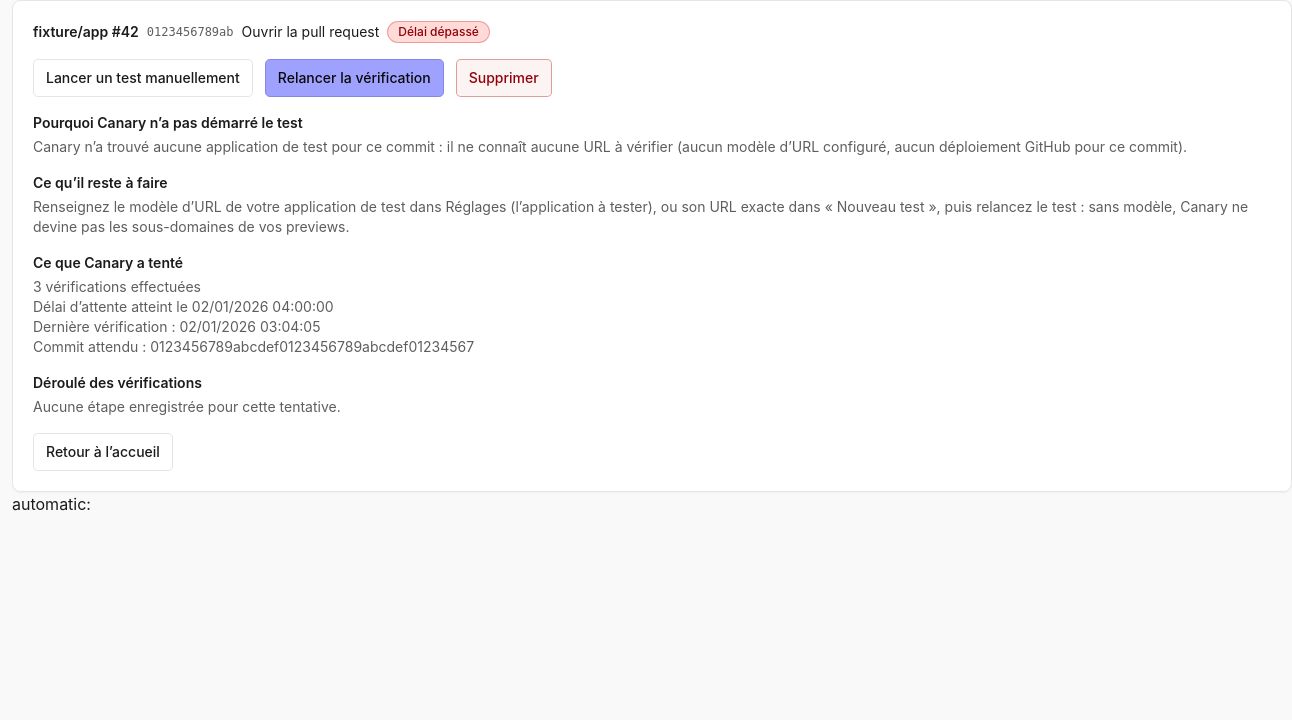
Scenario: AutomaticDetailView › keeps the attempt on screen when the server refuses the delete
Step 1. Click the button with id "automaticDetailDelete" → (504, 78), box [456, 59, 552, 97]
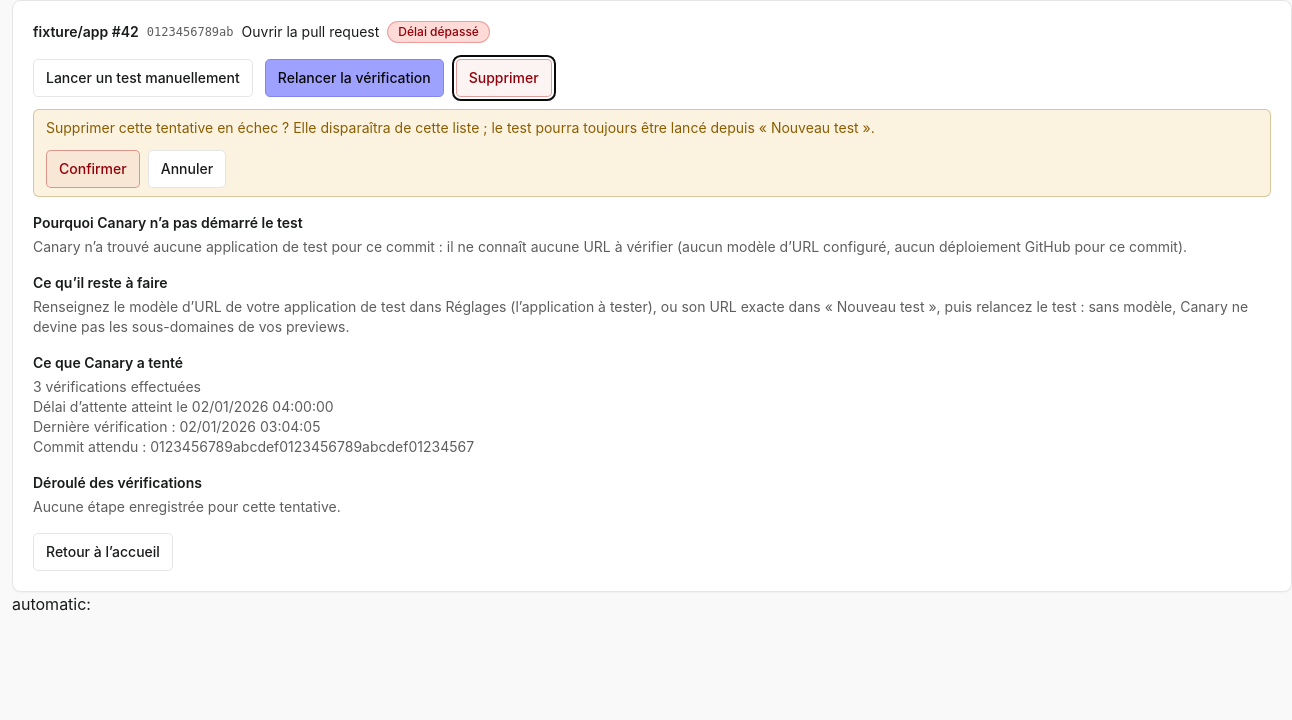
Step 2. Click the button with id "automaticDetailDelete-confirm" → (93, 169), box [46, 150, 140, 188]
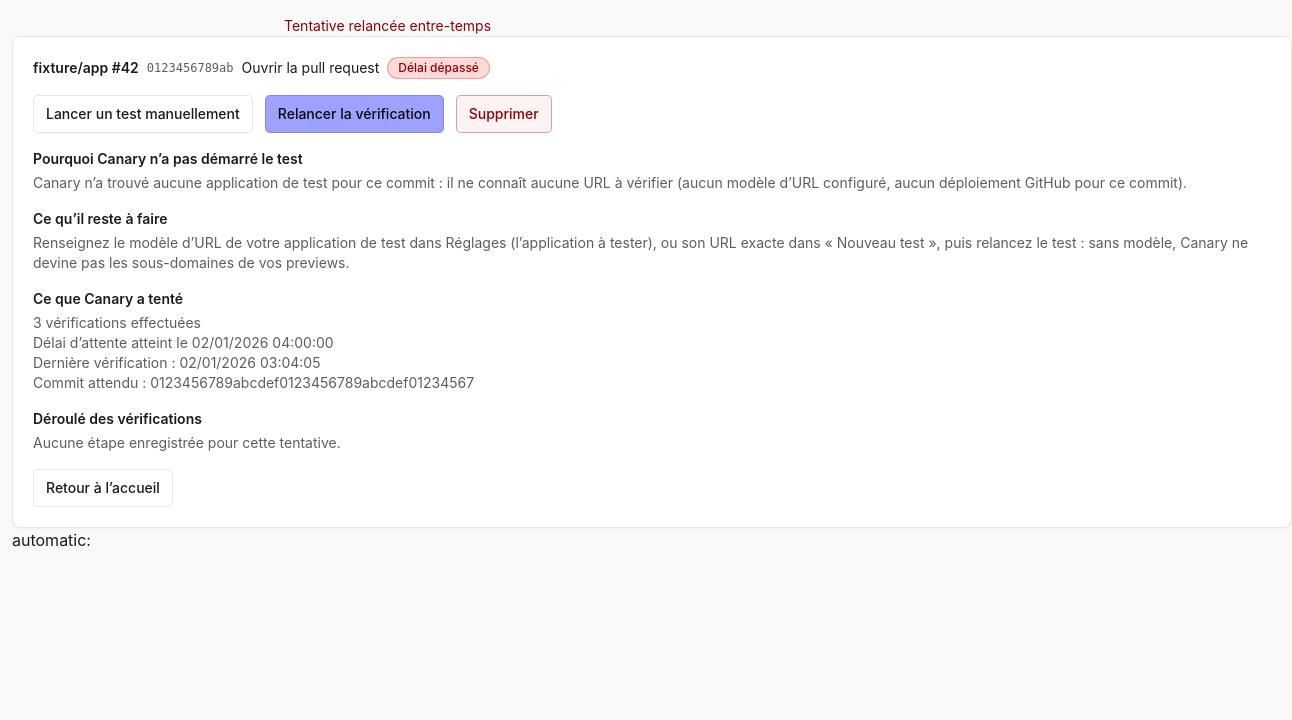
Expected: the text with test id "route" reads "automatic:", [12, 530, 91, 550]
Expected: the message with id "error" reads "Tentative relancée entre-temps", [284, 17, 491, 34]
